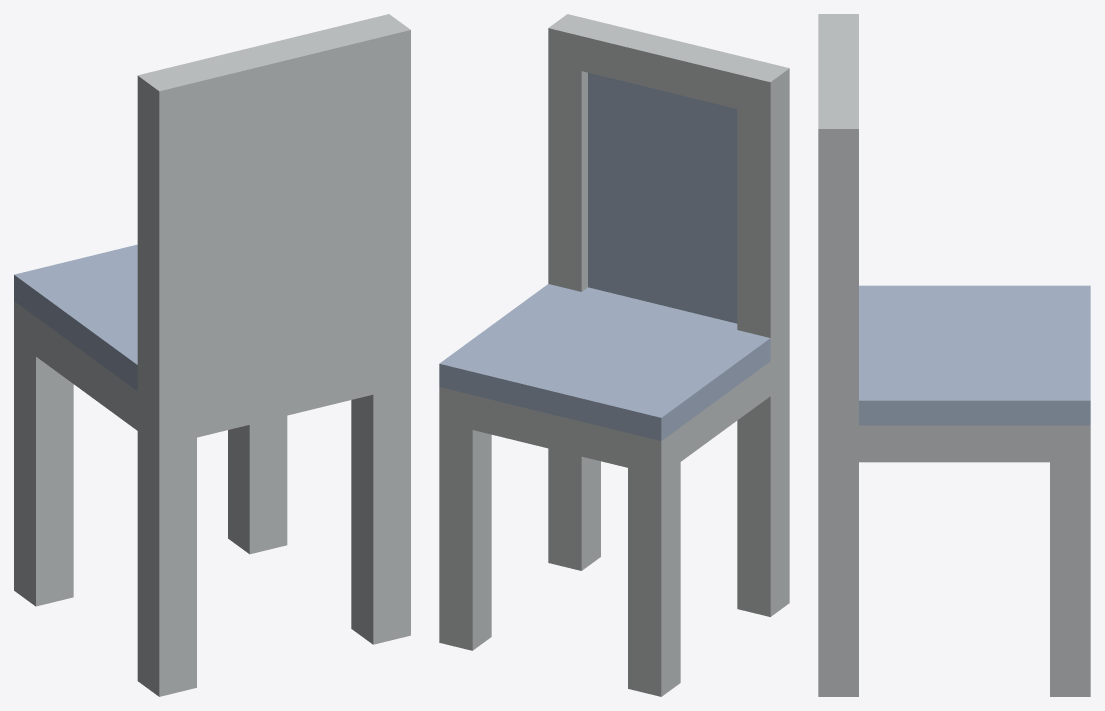
File: furn_chairModernCushion.glb
3 views of the same model, side by side, from view 1: azimuth 30°, elevation 25°; view 2: azimuth 150°, elevation 25°; view 3: azimuth 270°, elevation 25° (orthographic). The views are drawn at different scales.
Bounding box in the file's own units: 0.4 × 0.92 × 0.4.
